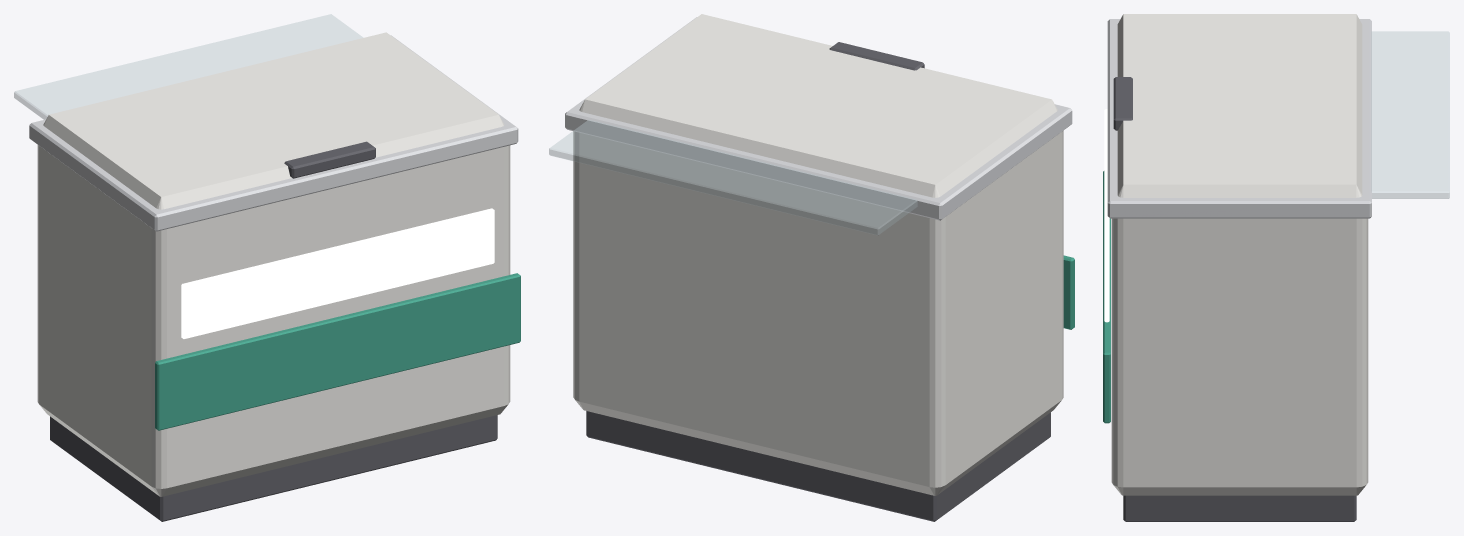
File: petrol-station-and-forecourt-shop-ice-cream-freezer-2df75916__33974.glb
The picture shows the model from 3 angles, left to right: view 1: azimuth 30°, elevation 25°; view 2: azimuth 150°, elevation 25°; view 3: azimuth 270°, elevation 25°; orthographic projection. The views are drawn at different scales.
Visible parts, largest first — view 1: ice-cream-freezer, freezer-lid/metal, freezer-lid/glass, freezer-lid/dark; view 2: ice-cream-freezer, freezer-lid/glass, freezer-lid/metal, freezer-lid/dark; view 3: ice-cream-freezer, freezer-lid/glass, freezer-lid/metal, freezer-lid/dark.
Boxes of the visible parts, x1,y1,x2,y2 form: ice-cream-freezer: (37, 32, 520, 521); freezer-lid/metal: (29, 35, 518, 231); freezer-lid/glass: (14, 14, 363, 119); freezer-lid/dark: (284, 141, 375, 178); ice-cream-freezer: (573, 14, 1074, 521); freezer-lid/glass: (549, 120, 917, 235); freezer-lid/metal: (565, 17, 1072, 220); freezer-lid/dark: (829, 42, 924, 70); ice-cream-freezer: (1103, 14, 1368, 521); freezer-lid/glass: (1371, 31, 1449, 198); freezer-lid/metal: (1107, 19, 1371, 218); freezer-lid/dark: (1113, 77, 1132, 130).
Size of the model in its own units: 1.12 by 0.965 by 0.892.
